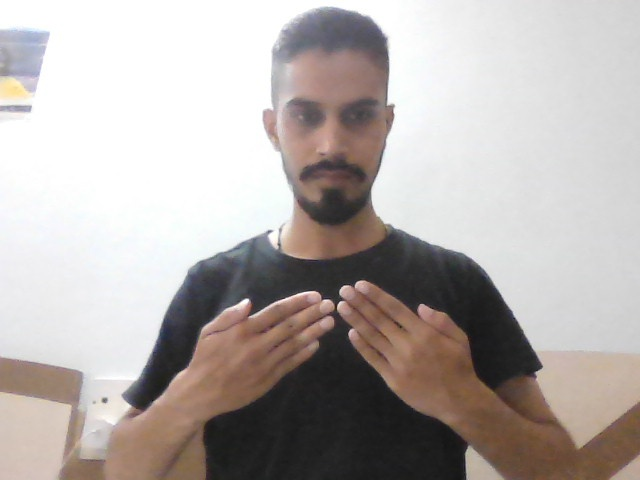ThankYou: (189, 282, 473, 412)
